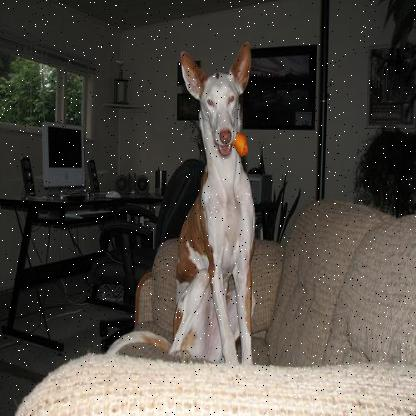dog: (131, 25, 284, 376)
